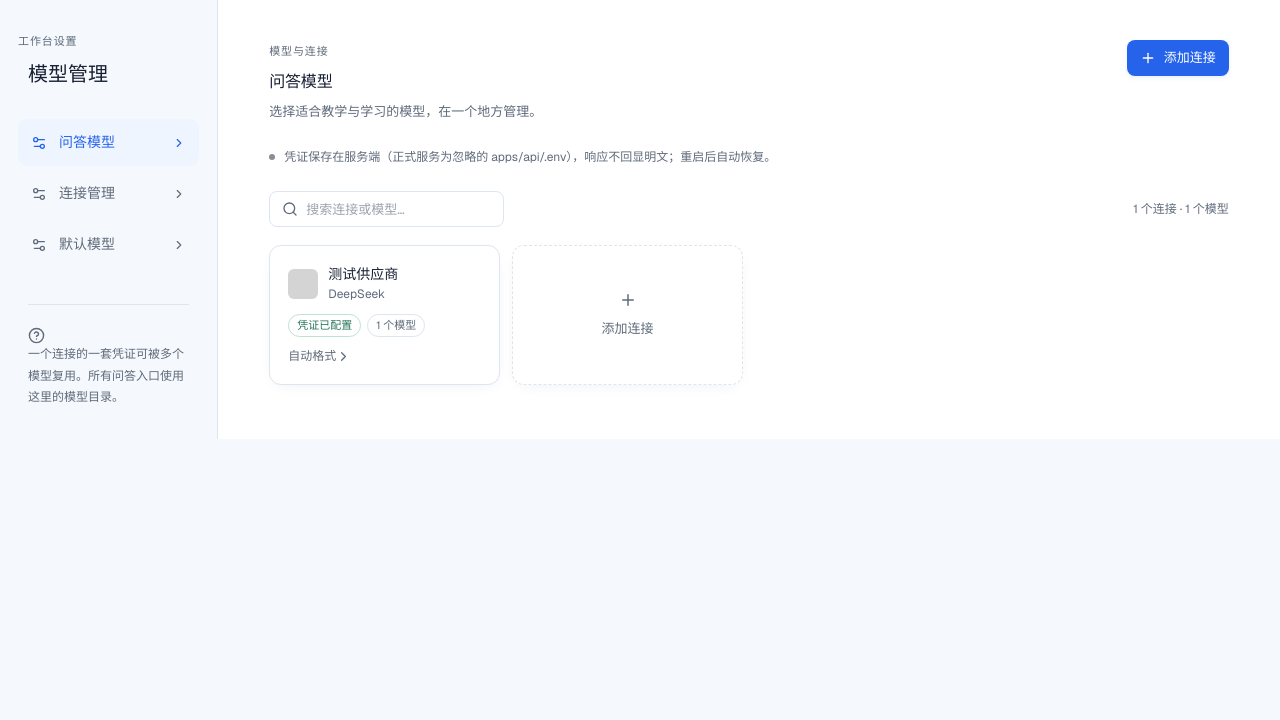
Test: 模型管理审查回归 › X 关闭在有未保存更改时先确认，不直接丢弃（MR-12）
Click the button with aria-label "打开 测试供应商 的详情" at (385, 315), box x1=269 y1=245 x2=500 y2=385
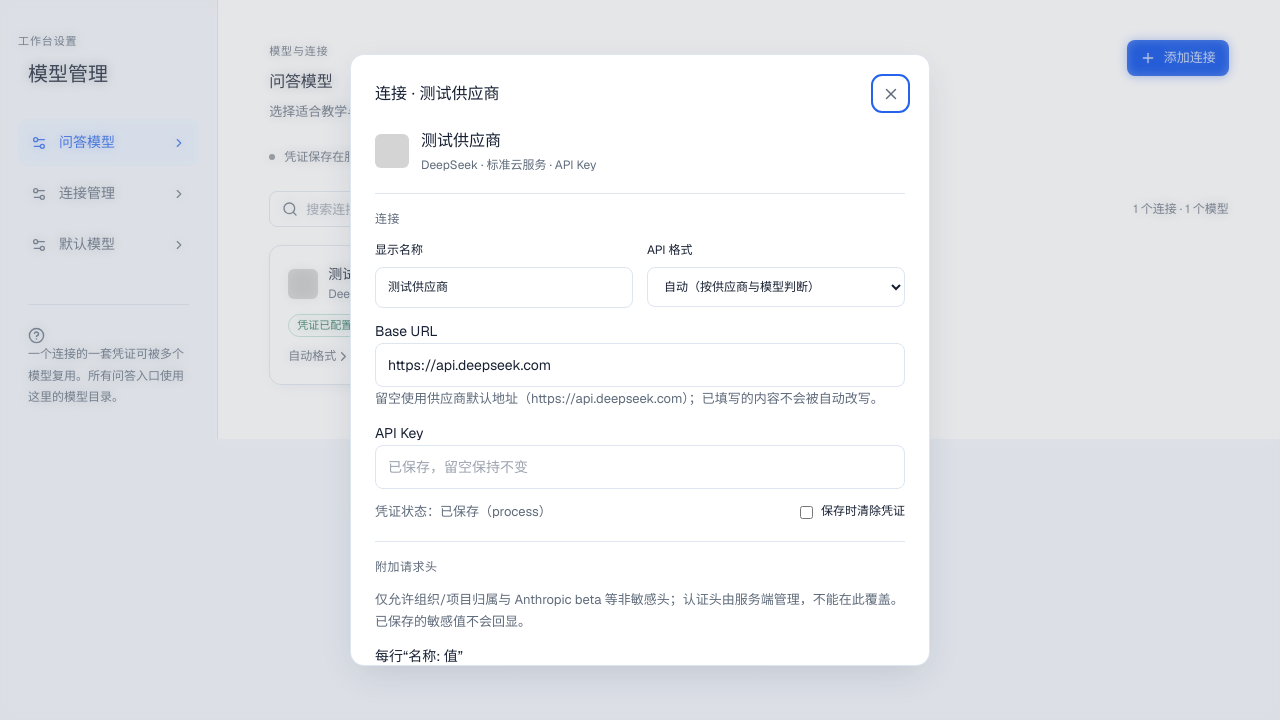
Type "https://new.example.com/v1" into the field labelled "Base URL" at (640, 365), box x1=375 y1=343 x2=905 y2=387
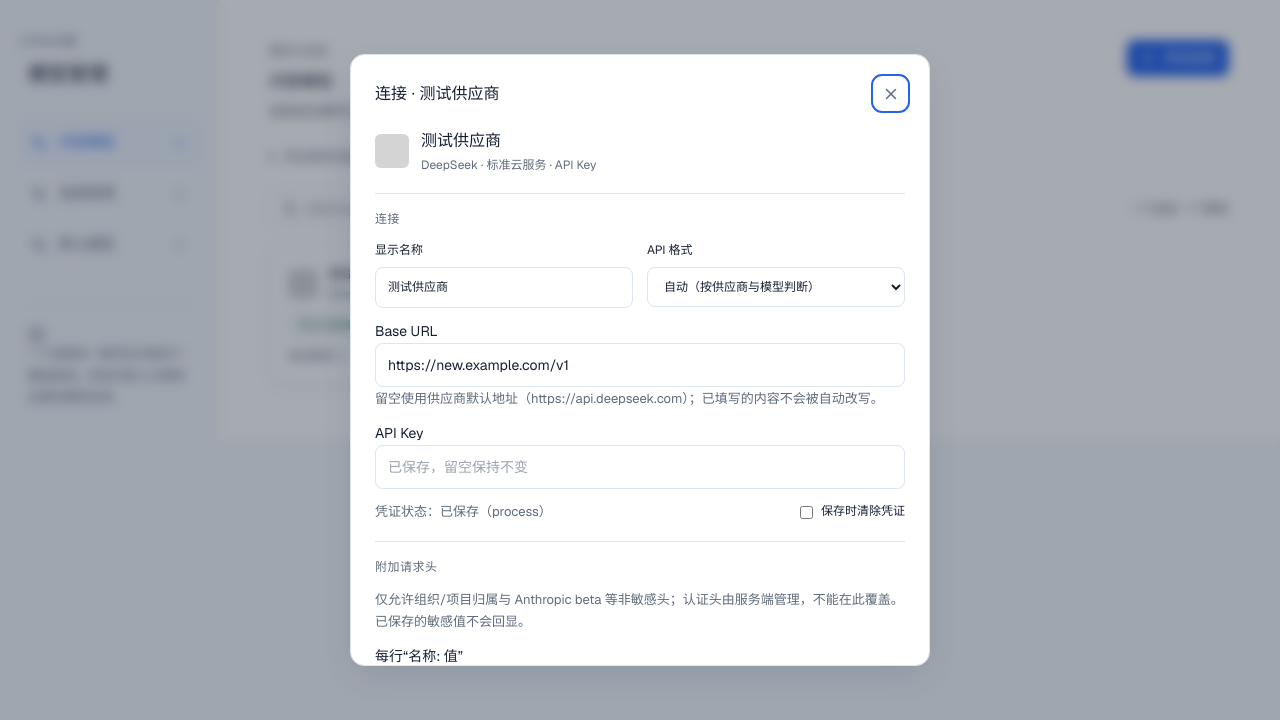
Click the button named "关闭对话框" at (890, 94), box x1=876 y1=79 x2=905 y2=108
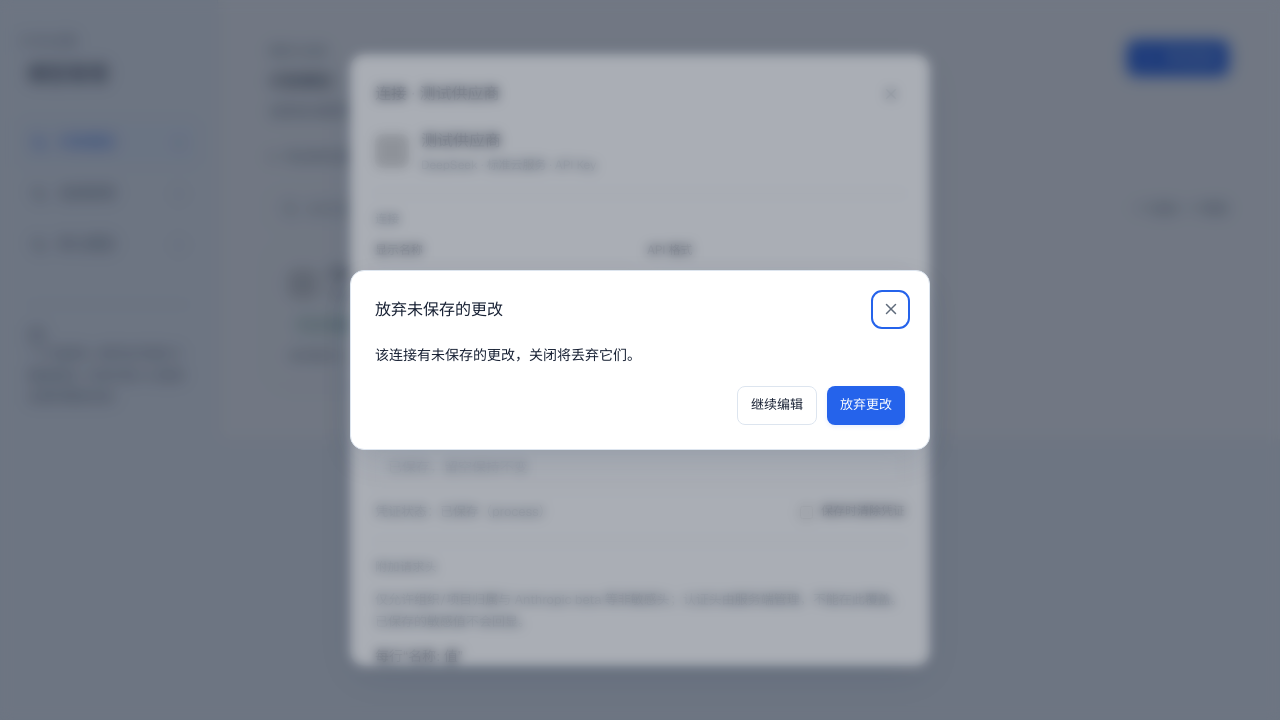
Expected: the dialog named "放弃未保存的更改" is shown, x1=375 y1=344 x2=905 y2=425
